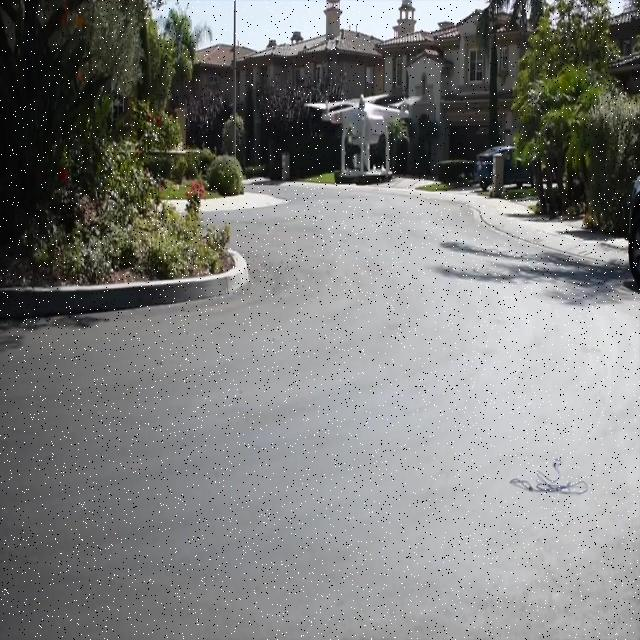UAV: (304, 93, 422, 187)
